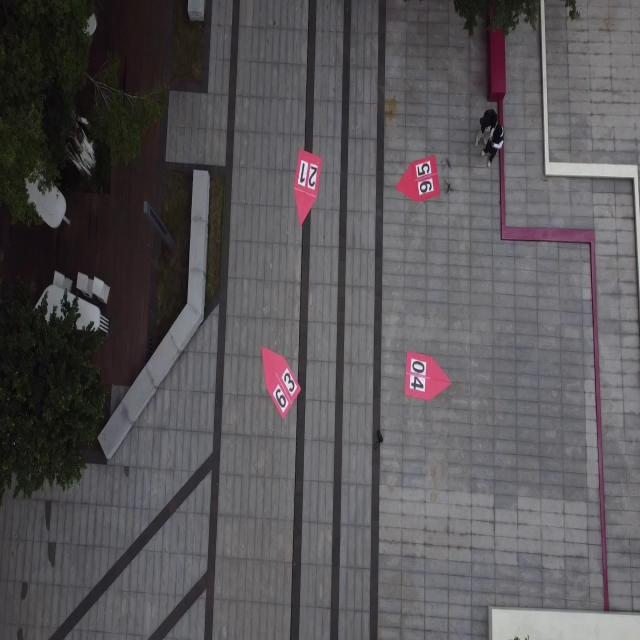-sign-: (261, 344, 301, 418), (405, 352, 453, 402), (293, 147, 322, 225), (396, 155, 442, 203)
